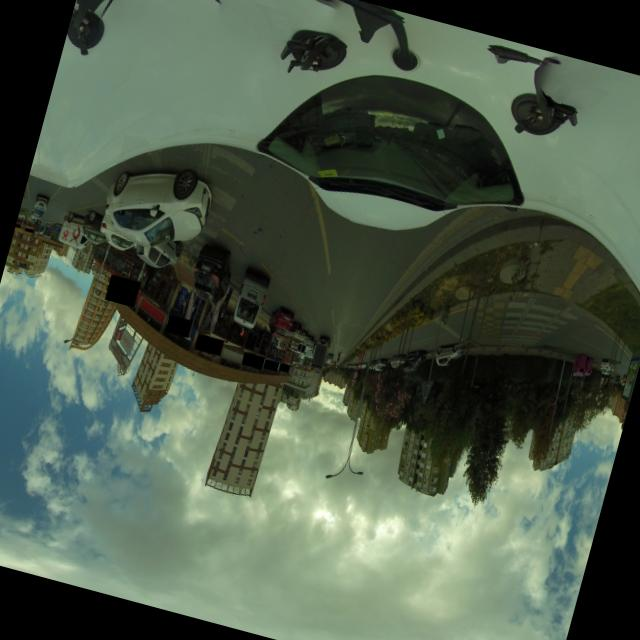SignStore: (107, 273, 136, 306), (194, 332, 222, 355), (166, 313, 189, 335), (240, 350, 263, 368), (262, 358, 278, 369), (278, 362, 289, 369), (24, 226, 32, 231), (14, 222, 20, 227)
